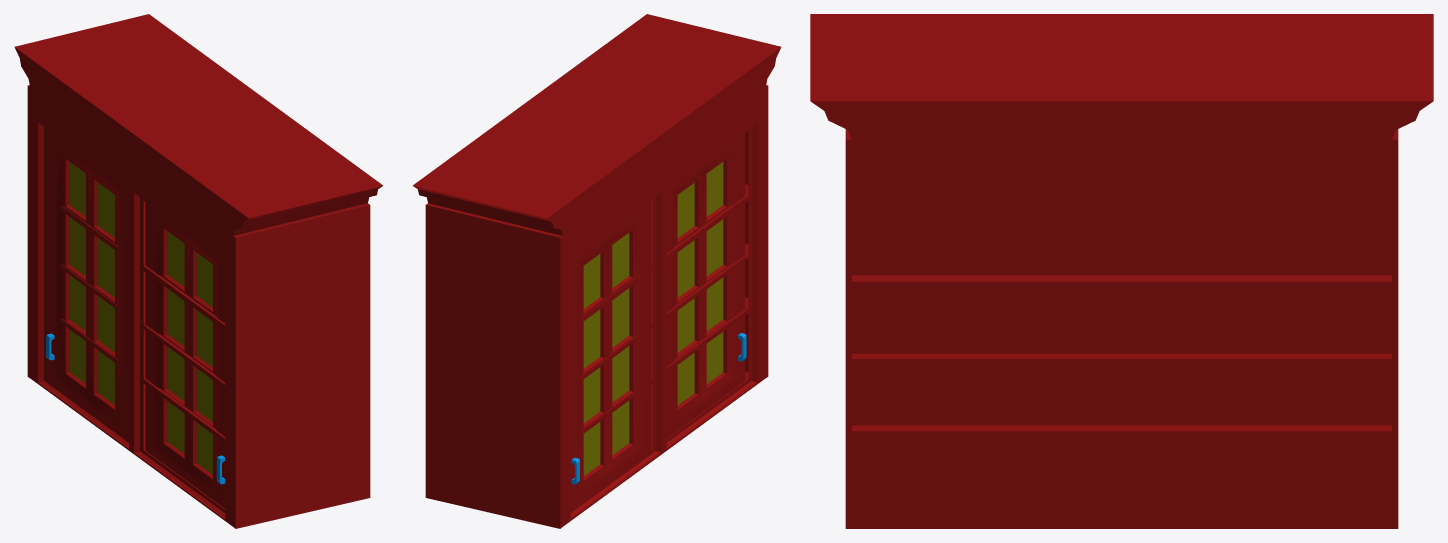
File: tiroirduhaut1.fbx
3 views of the same model, side by side, from view 1: azimuth 30°, elevation 25°; view 2: azimuth 150°, elevation 25°; view 3: azimuth 270°, elevation 25° (orthographic). The views are drawn at different scales.
Visible parts, largest first — view 1: tiroirduhaut; view 2: tiroirduhaut; view 3: tiroirduhaut.
Part boxes in pixels (x1,y1,x2,y2): tiroirduhaut: [14, 14, 383, 528]; tiroirduhaut: [412, 14, 781, 528]; tiroirduhaut: [810, 14, 1433, 528].
Size of the model in its own units: 48.62 by 111 by 147.
